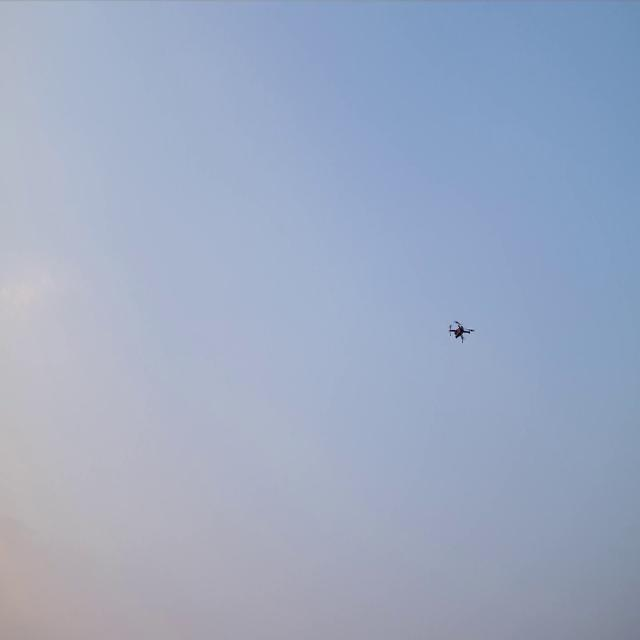UAV: (448, 320, 475, 342)
